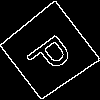P: (24, 26, 81, 81)
